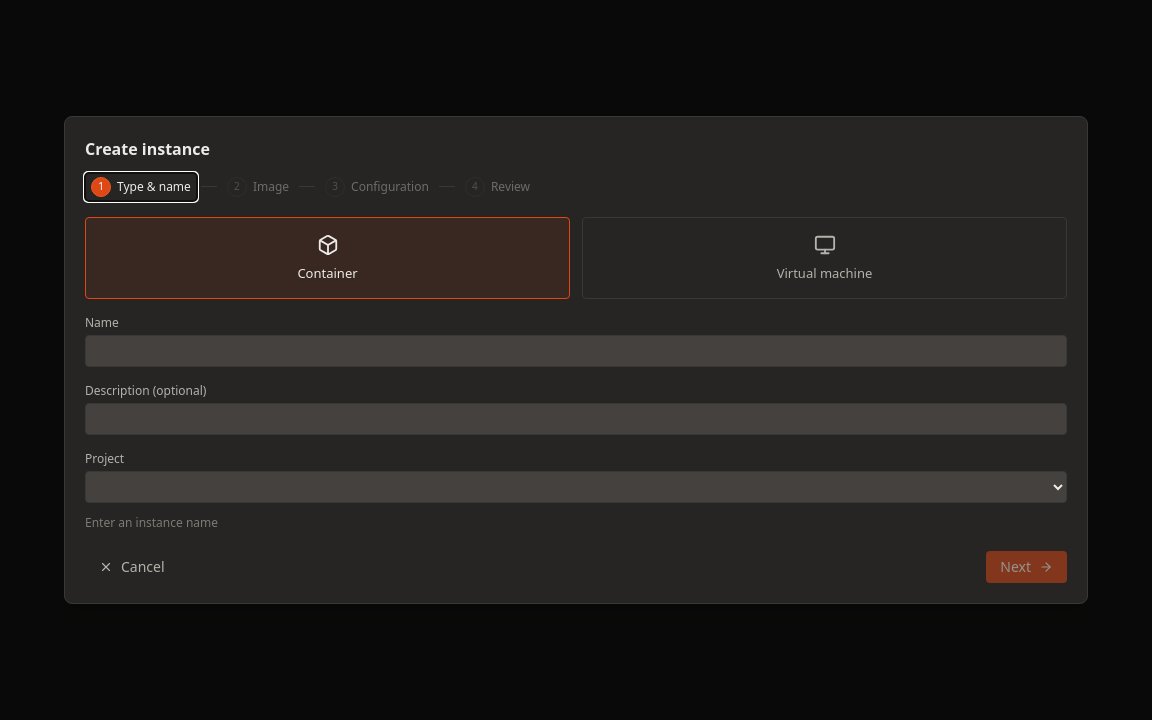
Scenario: CreateInstanceWizard › gates stage 1 on a valid name
Step 1. Type "bad name!" into the field with test id "wizard-name" → (576, 351), box [85,335,1067,367]
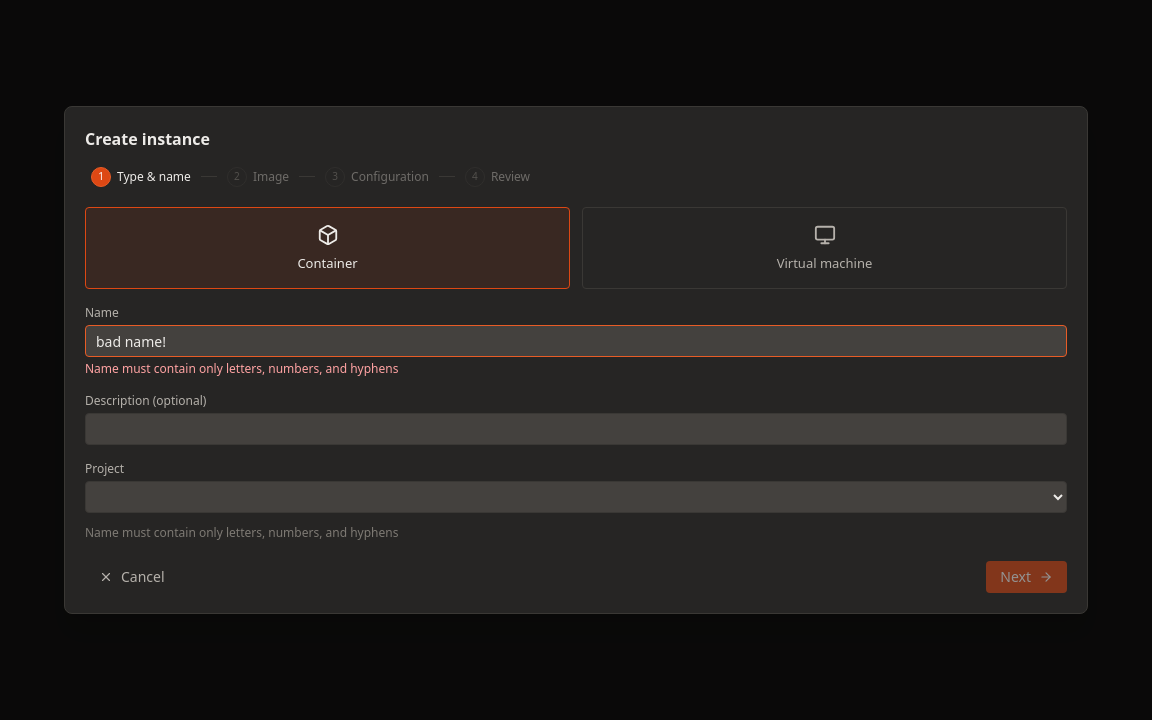
Check: the button with test id "step-next" is disabled, box [986,561,1067,593]
Check: the text "Name must contain only letters, numbers, and hyphens" is shown, box [85,360,398,377]
Step 2. Clear the field with test id "wizard-name" → (576, 341), box [85,325,1067,357]
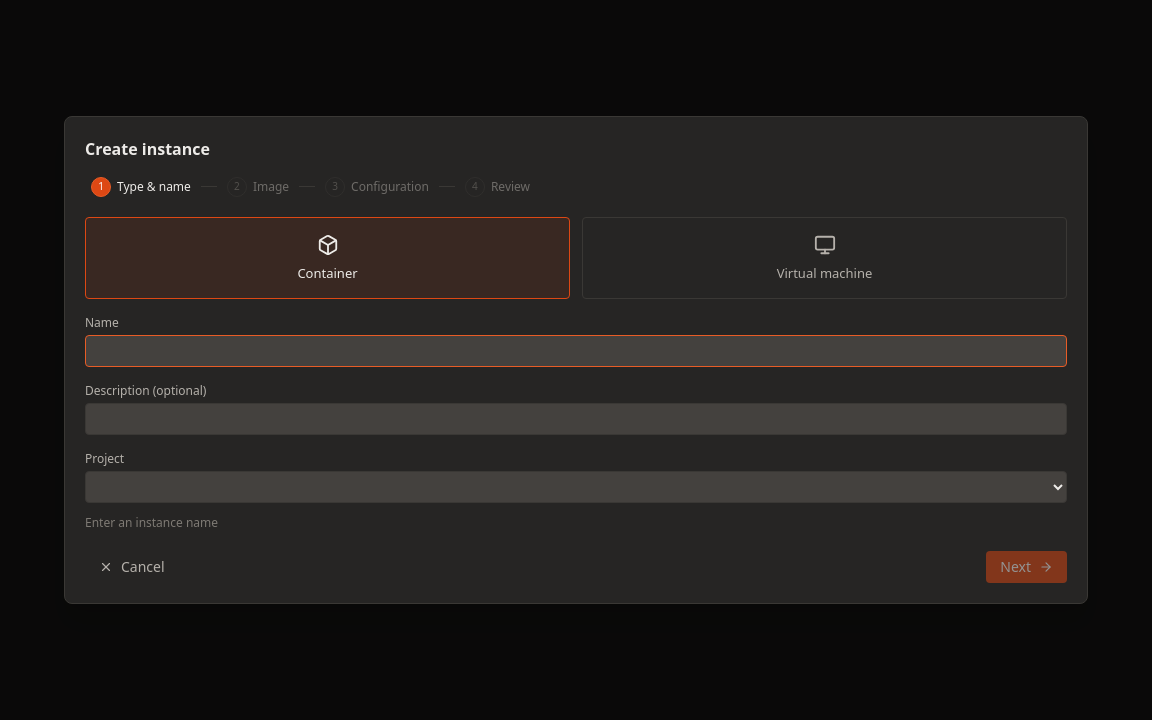
Step 3. Type "web1" into the field with test id "wizard-name" → (576, 351), box [85,335,1067,367]
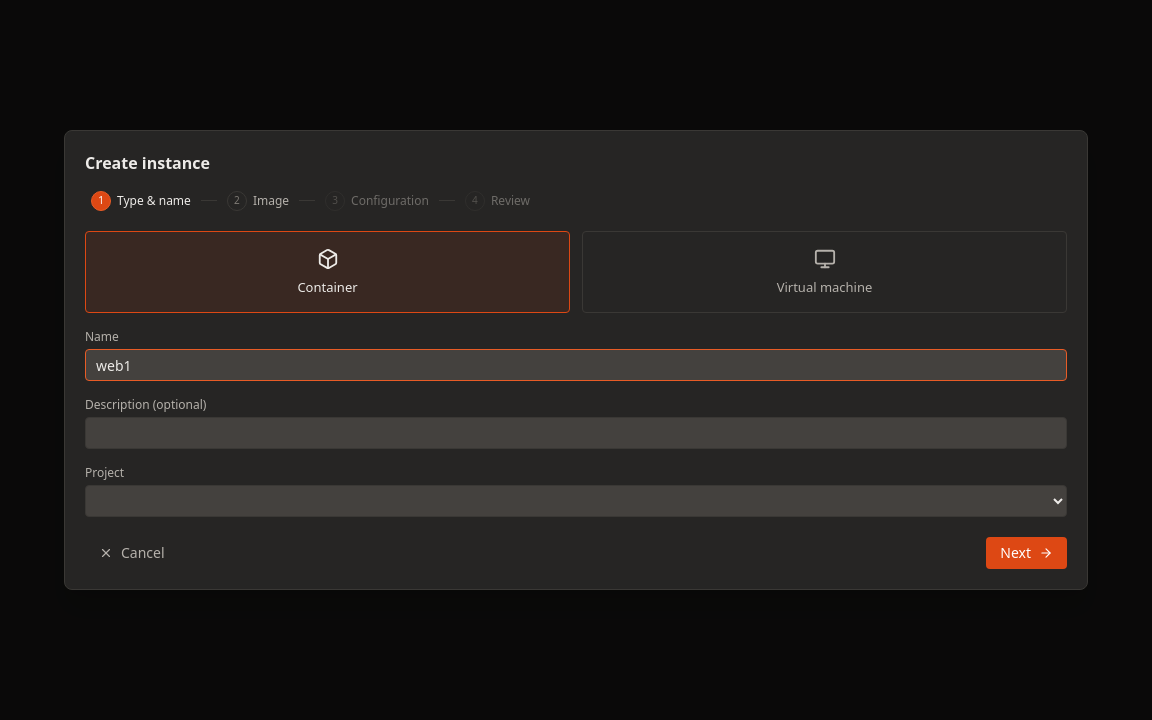
Check: the button with test id "step-next" is enabled, box [986,537,1067,569]
